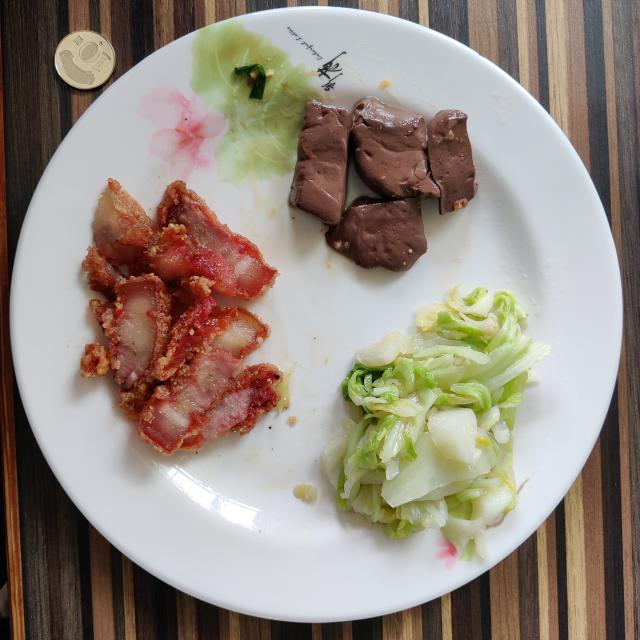cabbage: (321, 286, 551, 559)
coin: (55, 30, 115, 90)
pig blood curd: (289, 98, 476, 271)
red grilled pork: (81, 179, 284, 455)
